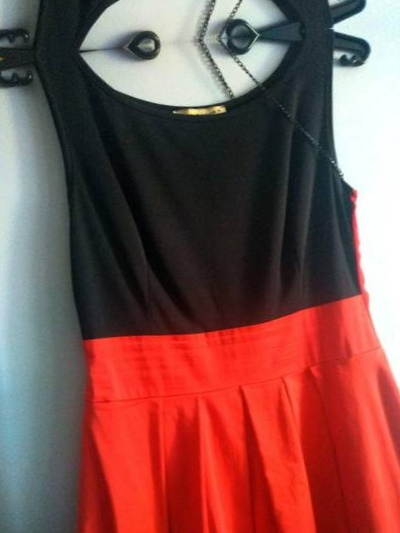Dress: (18, 29, 400, 533), (0, 0, 398, 50), (64, 524, 400, 533), (352, 0, 400, 14), (400, 0, 400, 524)
